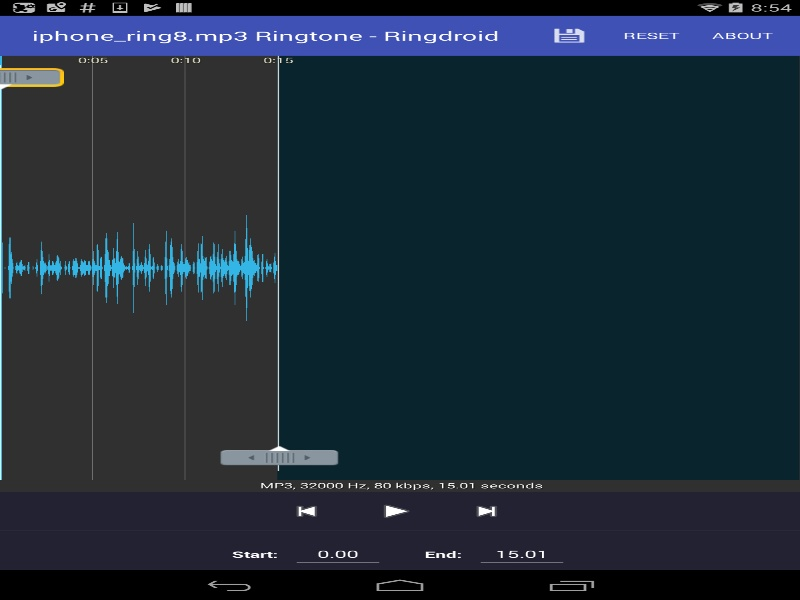Button: (349, 495, 444, 527), (264, 495, 349, 527), (444, 495, 529, 527)
Input: (291, 540, 384, 567), (475, 540, 568, 567)
